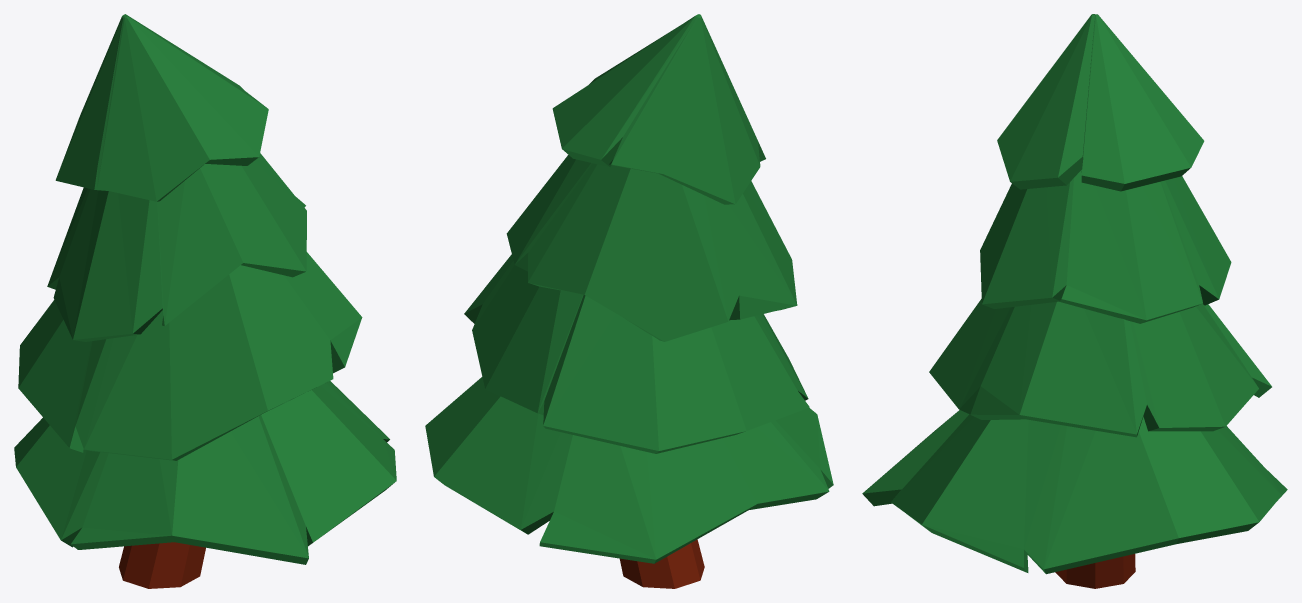
The model's file is low_poly_fantasy_tree.glb.
The picture shows the model from 3 angles, left to right: view 1: azimuth 30°, elevation 25°; view 2: azimuth 150°, elevation 25°; view 3: azimuth 270°, elevation 25°; orthographic projection. The views are drawn at different scales.
Visible parts, largest first — view 1: Cylinder; view 2: Cylinder; view 3: Cylinder.
Part boxes in pixels (x1=…): Cylinder: x1=14, y1=14, x2=396, y2=588; Cylinder: x1=425, y1=14, x2=833, y2=588; Cylinder: x1=862, y1=14, x2=1287, y2=588.
Bounding box in the file's own units: 9.21 × 14.79 × 10.53.
1 material, 1 textured.
